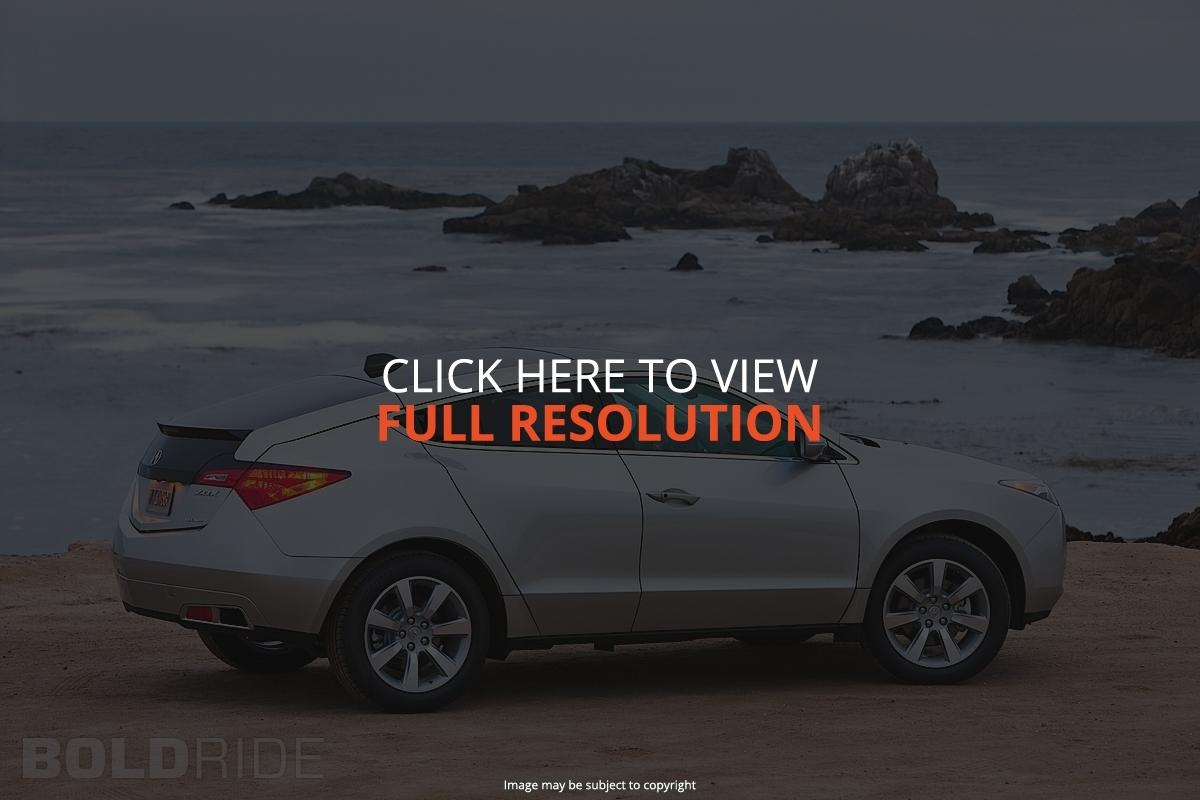Hatchback: (110, 348, 1068, 713)
